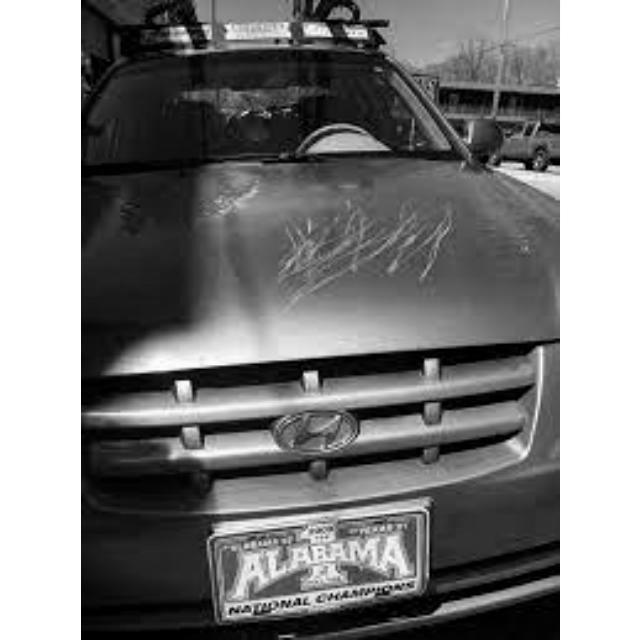bonnet-dent: (88, 171, 557, 368)
